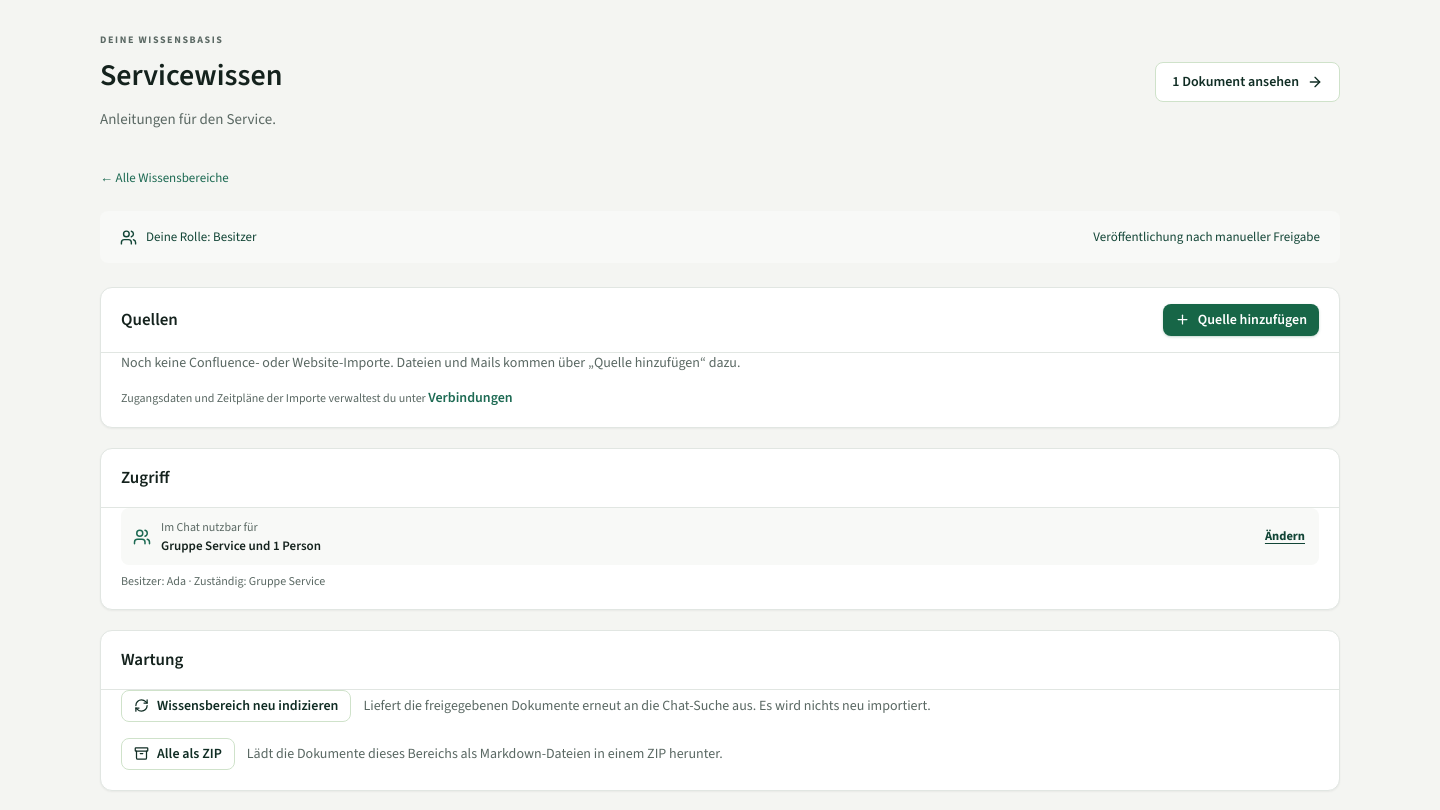
Test: reindexes a knowledge space after confirmation, explaining that nothing is re-imported
This screenshot has width=1440, height=810.
Check: the link "1 Dokument ansehen" is shown, box left=1155, top=62, right=1340, bottom=102
Check: the text "Es wird nichts neu importiert" is shown, box left=363, top=696, right=931, bottom=715
Click the button "Wissensbereich neu indizieren" at [236, 706], box left=121, top=690, right=351, bottom=722
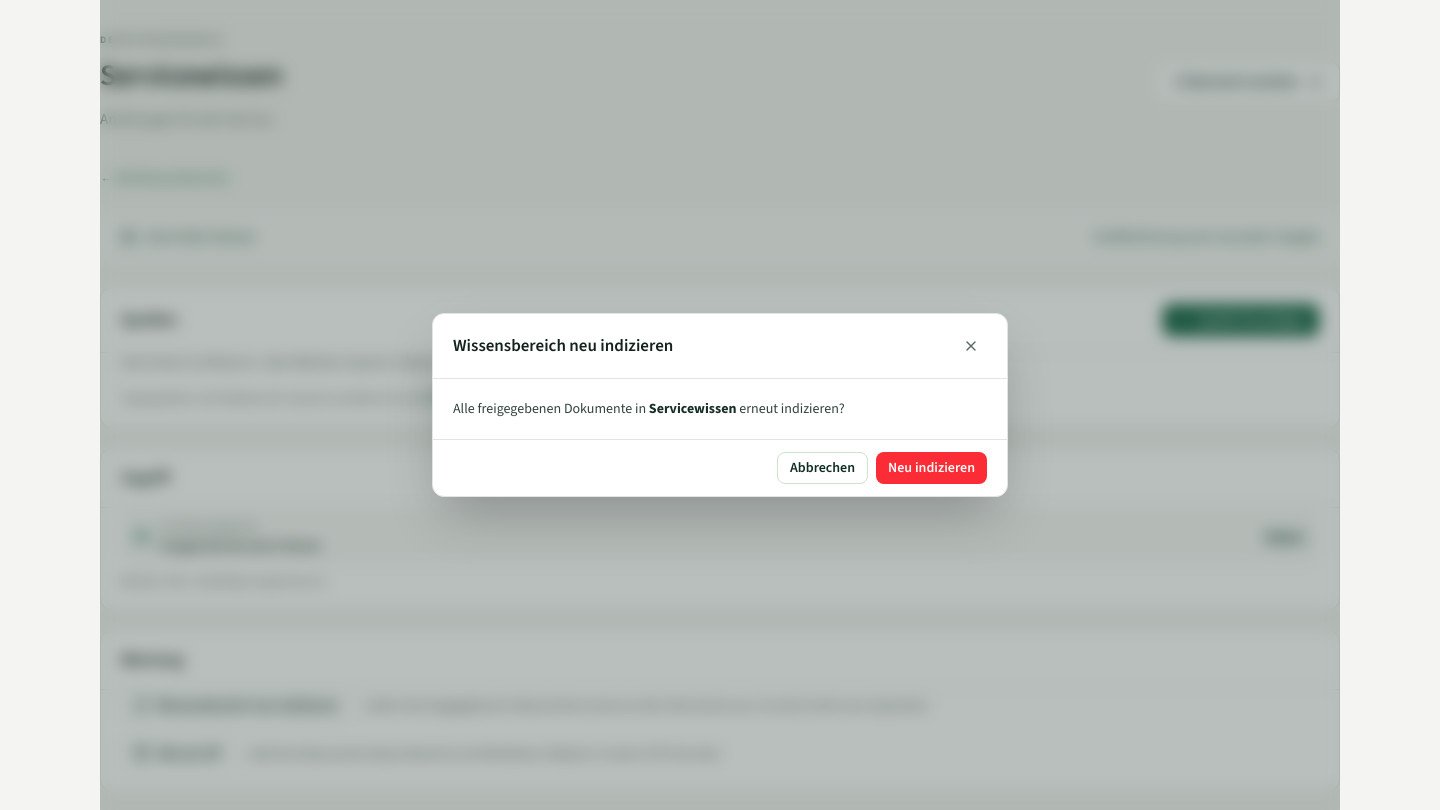
Click the button "Neu indizieren" at [932, 468], box left=876, top=452, right=987, bottom=484
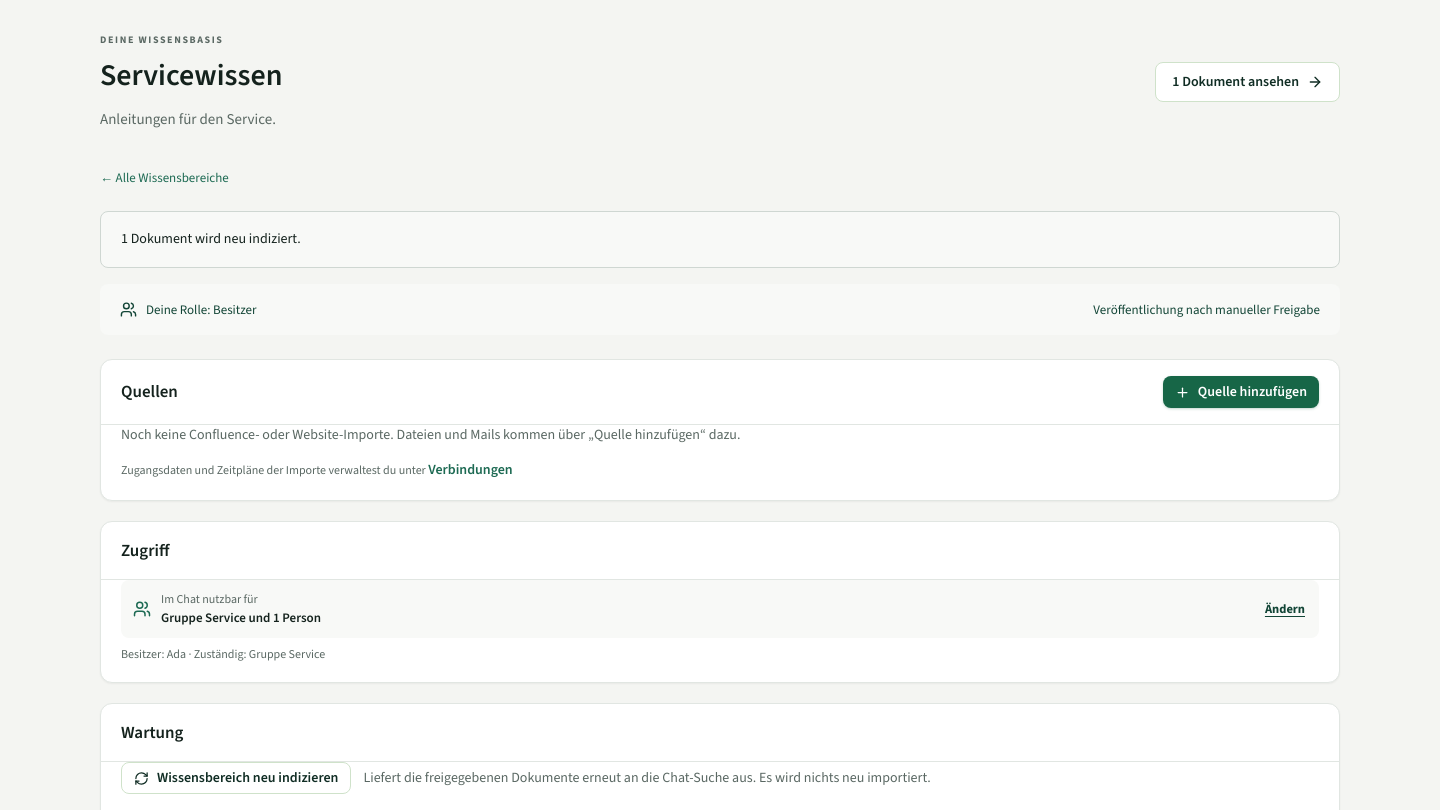
Check: the text "1 Dokument wird neu indiziert." is shown, box left=121, top=228, right=301, bottom=251
